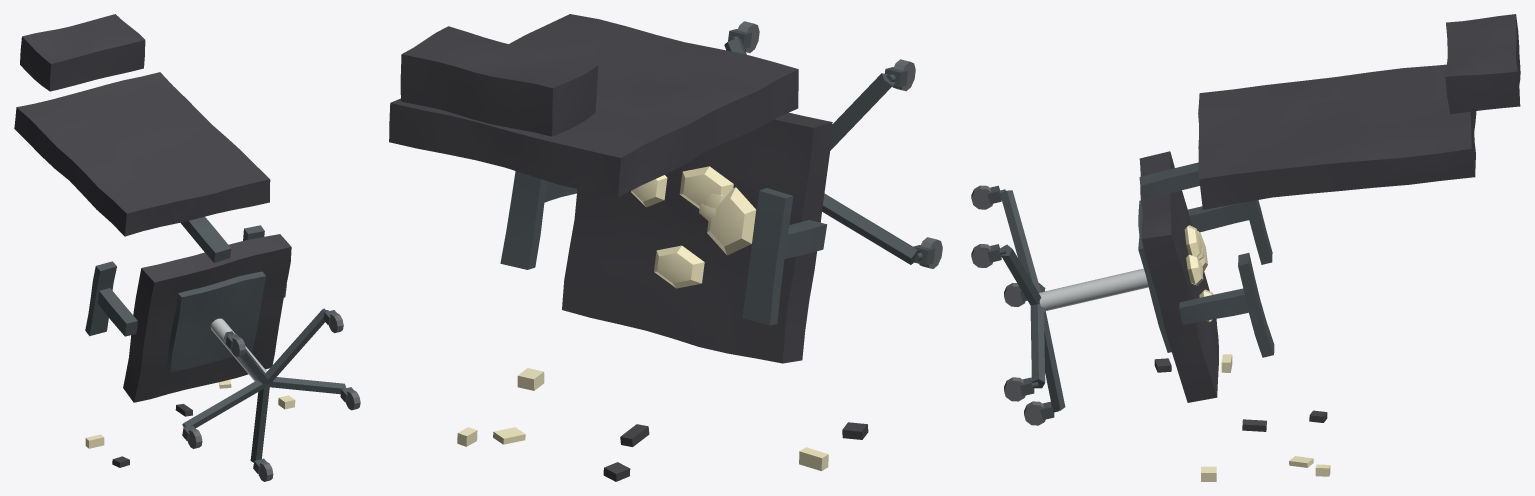
Rendered from leather_chair_broken.fbx.
3 views of the same model, side by side, from view 1: azimuth 30°, elevation 25°; view 2: azimuth 150°, elevation 25°; view 3: azimuth 270°, elevation 25° (orthographic). The views are drawn at different scales.
Parts seen in each view (by area): view 1: leather_chair_broken, leather_chair_broken_debris; view 2: leather_chair_broken, leather_chair_broken_debris; view 3: leather_chair_broken, leather_chair_broken_debris.
Boxes of the visible parts, <box> form: leather_chair_broken: <box>14,14,360,481</box>; leather_chair_broken_debris: <box>85,379,295,467</box>; leather_chair_broken: <box>389,14,942,363</box>; leather_chair_broken_debris: <box>457,368,868,481</box>; leather_chair_broken: <box>971,14,1520,425</box>; leather_chair_broken_debris: <box>1154,354,1330,481</box>.
Size of the model in its own units: 71.21 by 108 by 140.
